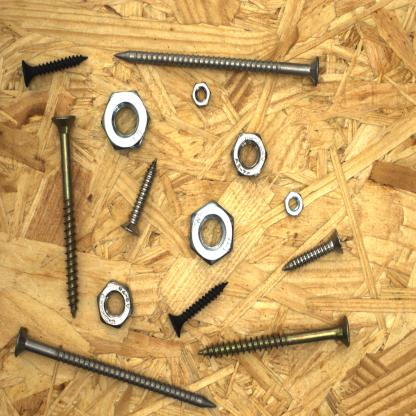screw: (11, 321, 220, 412), (110, 35, 324, 92), (192, 308, 354, 360), (49, 109, 82, 322), (165, 278, 231, 341), (115, 154, 160, 240), (277, 224, 348, 276), (17, 51, 92, 91)
